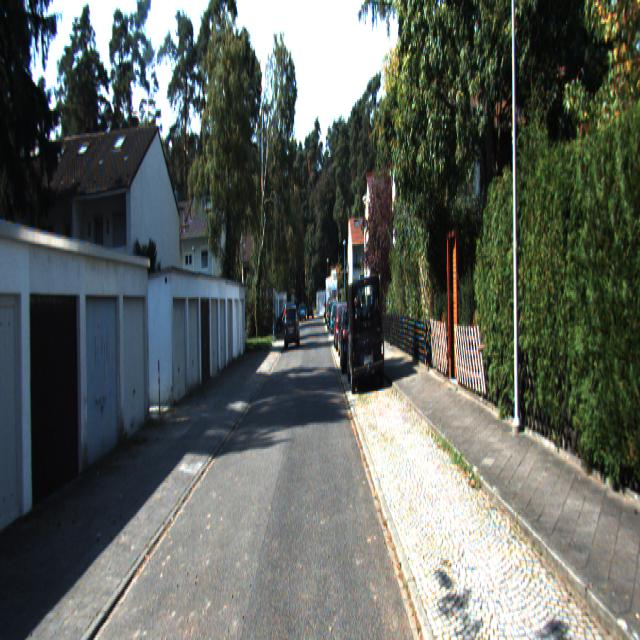Car: (345, 270, 384, 389), (284, 302, 300, 347)
